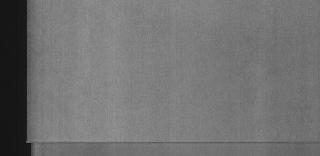welding line: (24, 138, 320, 150)
